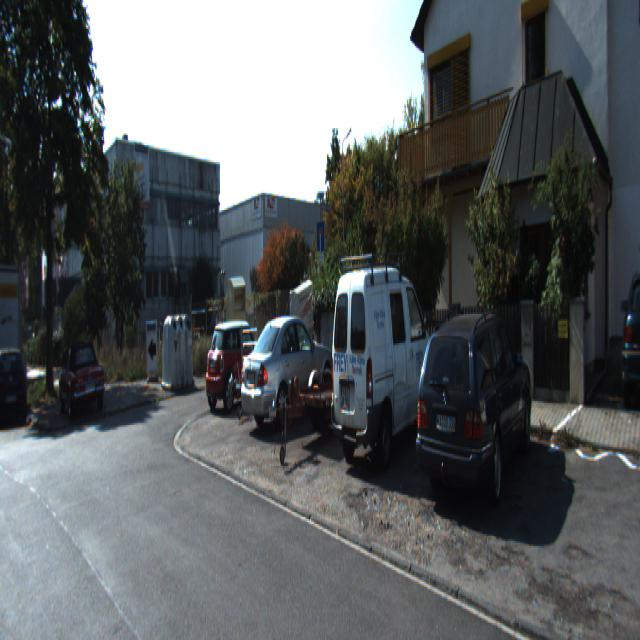Car: (415, 306, 537, 526), (328, 251, 444, 478), (248, 356, 393, 479), (237, 308, 337, 436), (202, 318, 272, 414), (218, 322, 280, 421), (56, 337, 105, 417), (0, 263, 21, 416), (622, 258, 640, 408), (0, 340, 29, 428), (284, 278, 314, 357)
